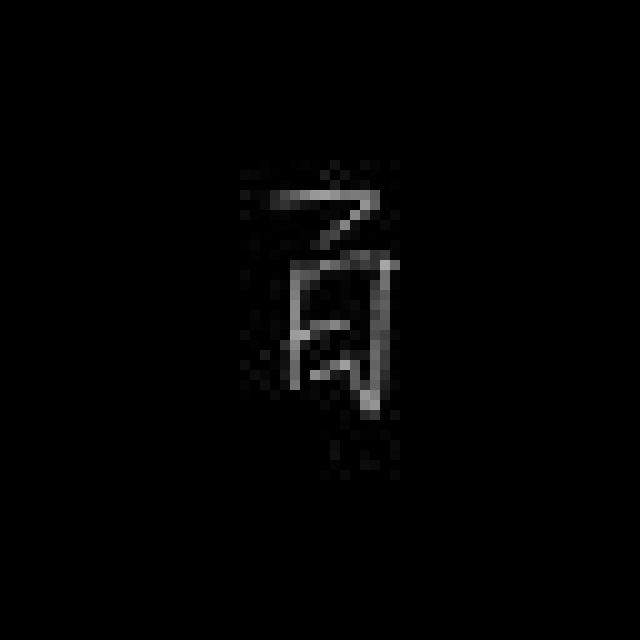100 -a hundred-: (261, 161, 403, 424)
